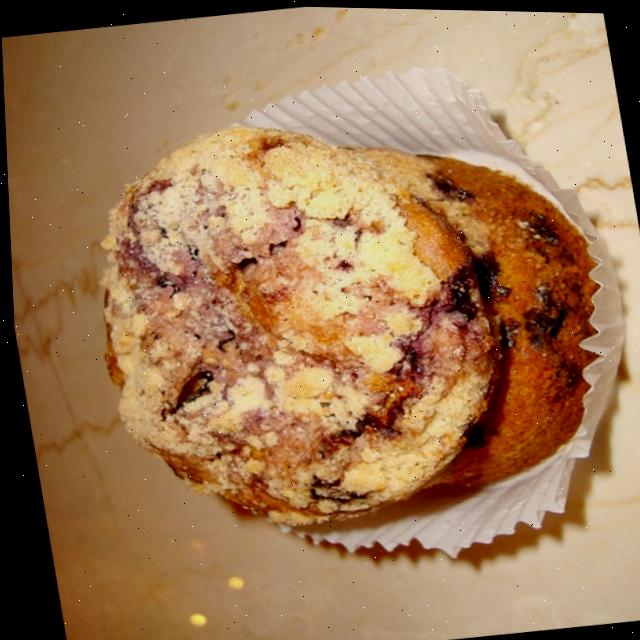炸货点心: (45, 39, 640, 621)
面包点心: (45, 39, 640, 621)
